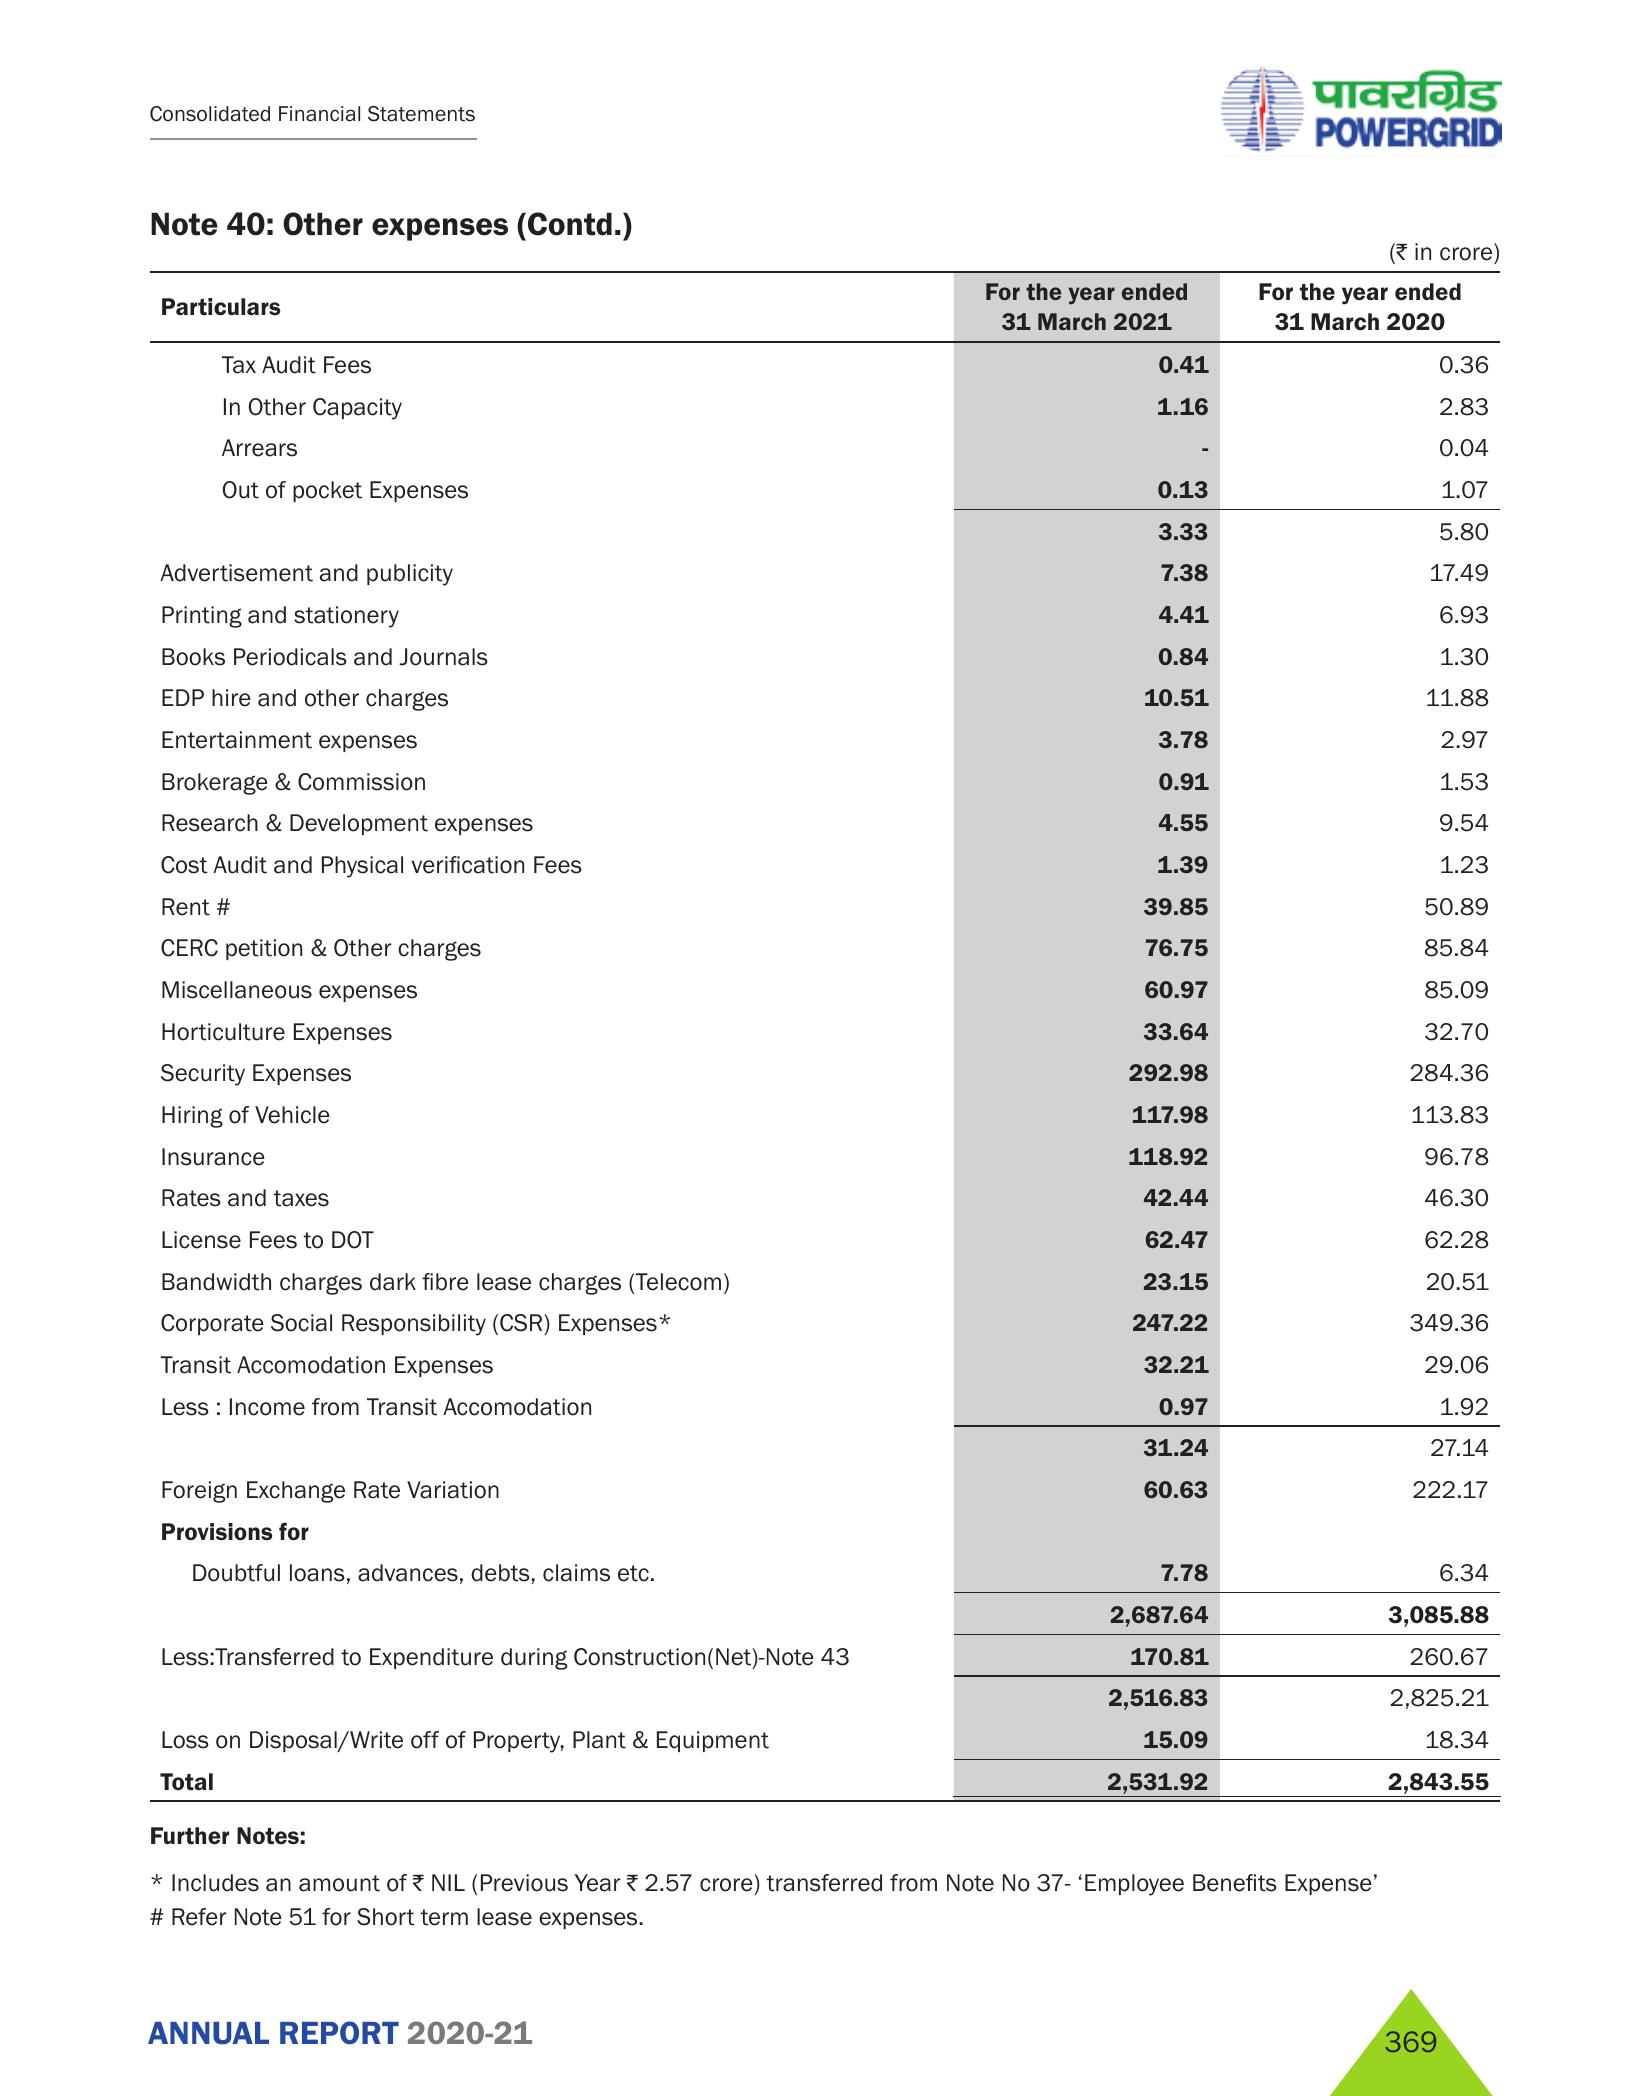Footer: (3, 1962, 1650, 2096)
Header: (0, 0, 1650, 168)
Table: (94, 271, 1568, 1802)
